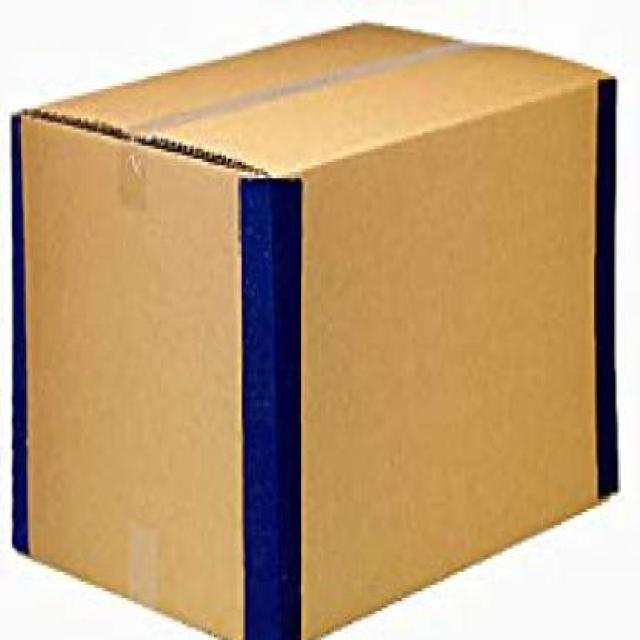box: (4, 9, 623, 640)
